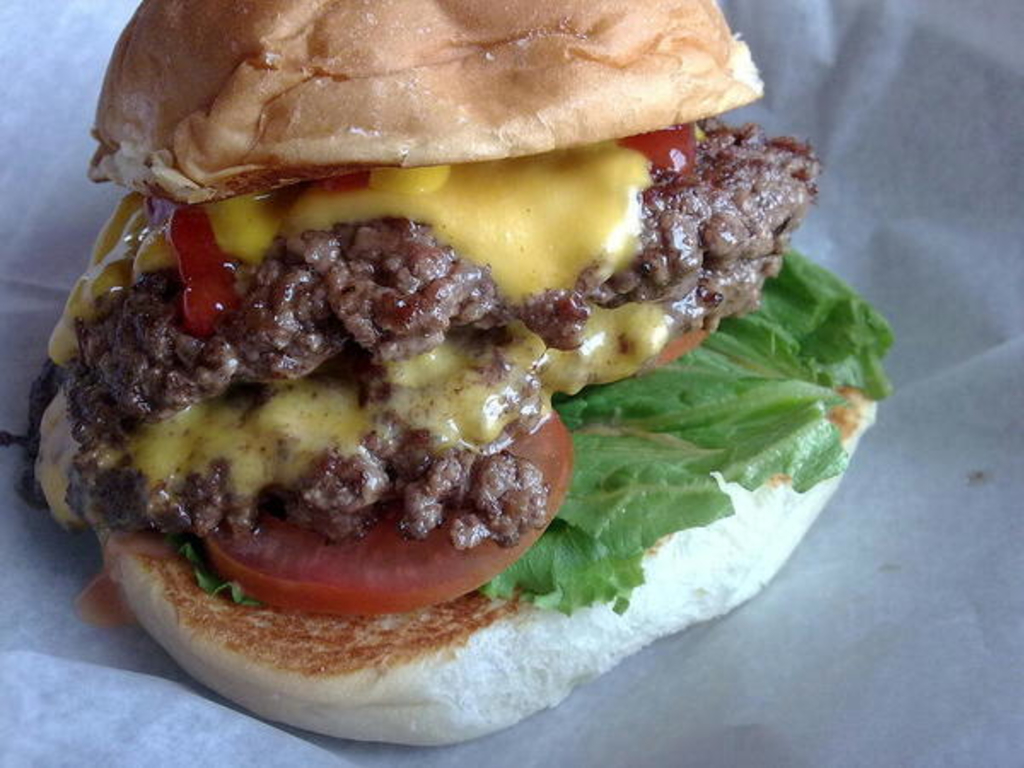Hamburger: (20, 0, 897, 745)
